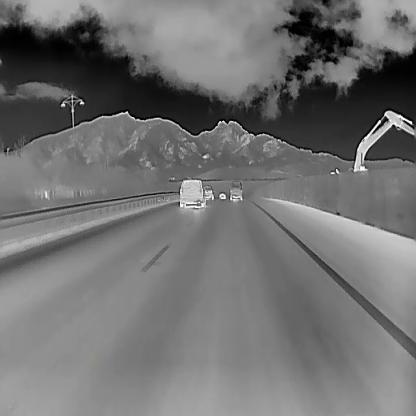car: (179, 177, 205, 208), (229, 178, 243, 202), (202, 184, 214, 200)
truck: (218, 189, 226, 200)
